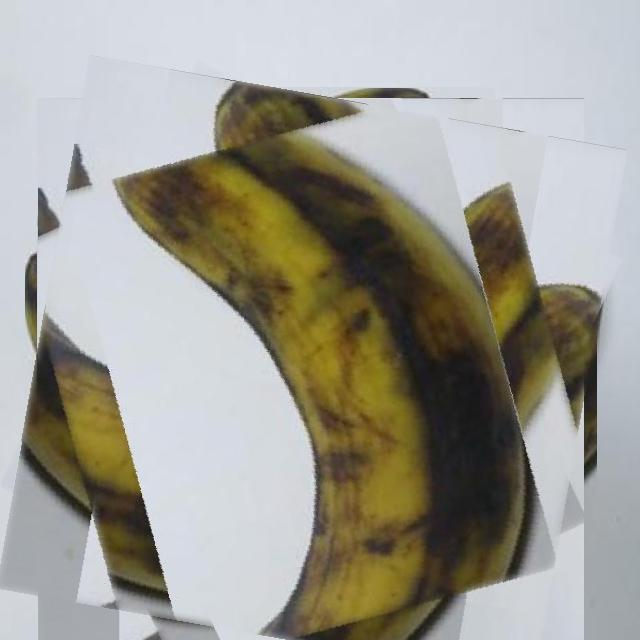Execivamente Madura: (15, 76, 605, 640)
